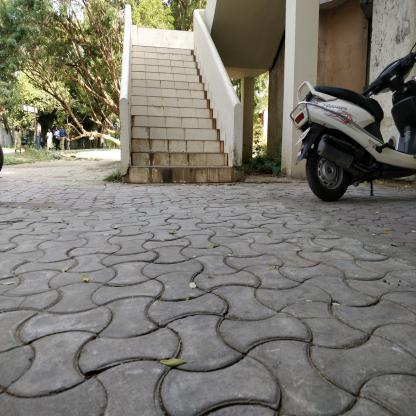stairs: (133, 44, 195, 191)
